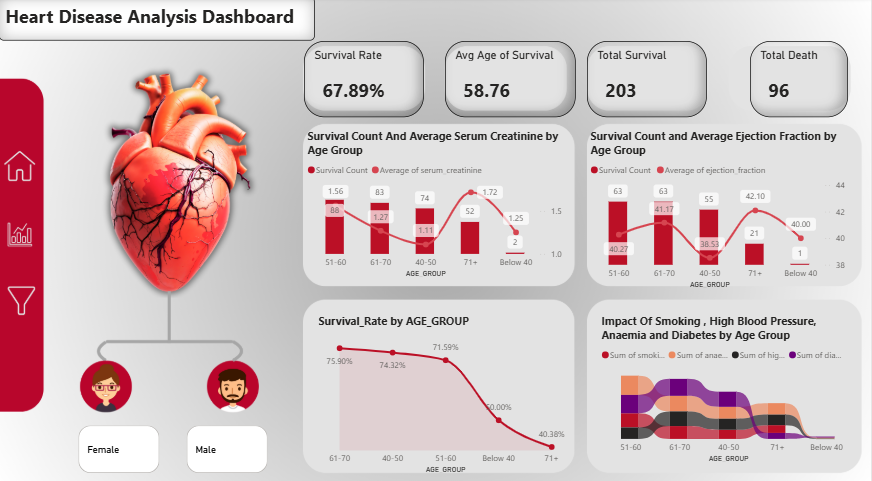

What the dashboard file says about the page in this screenshot:
{"tool":"powerbi","page":{"name":"Page 1","canvas":[1280,720],"ordinal":0},"visuals":[{"type":"textbox","box":[0,0,464,64],"z":0},{"type":"cardVisual","title":"Survival Rate","fields":{"Data":["heart_Disease_clinical_records_.Survival_Rate"]},"box":[448,64,176,112],"z":1000},{"type":"cardVisual","title":"Avg Age of Survival","fields":{"Data":["heart_Disease_clinical_records_.Average_Age_of_Survival"]},"box":[656,64,176,112],"z":2000},{"type":"cardVisual","title":"Total Survival","fields":{"Data":["heart_Disease_clinical_records_.Total_Survival"]},"box":[864,64,176,112],"z":3000},{"type":"cardVisual","title":"Total Death","fields":{"Data":["heart_Disease_clinical_records_.Total_Death"]},"box":[1104,64,144,112],"z":4000},{"type":"lineClusteredColumnComboChart","title":"Survival Count And  Average Serum Creatinine by Age Group ","fields":{"Category":["heart_Disease_clinical_records_.AGE_GROUP"],"Y":["CountNonNull(heart_Disease_clinical_records_.DEATH_EVENT)"],"Y2":["Avg(heart_Disease_clinical_records_.serum_creatinine)"]},"box":[448,192,384,224],"z":5000},{"type":"lineClusteredColumnComboChart","title":"Survival Count and Average Ejection Fraction by Age Group","fields":{"Category":["heart_Disease_clinical_records_.AGE_GROUP"],"Y":["CountNonNull(heart_Disease_clinical_records_.DEATH_EVENT)"],"Y2":["Avg(heart_Disease_clinical_records_.ejection_fraction)"]},"box":[864,192,384,240],"z":6000},{"type":"lineChart","fields":{"Category":["heart_Disease_clinical_records_.AGE_GROUP"],"Y":["heart_Disease_clinical_records_.Survival_Rate"]},"box":[464,464,384,240],"z":7000},{"type":"ribbonChart","title":"Impact Of Smoking , High Blood Pressure, Anaemia and Diabetes by Age Group","fields":{"Category":["heart_Disease_clinical_records_.AGE_GROUP"],"Y":["Sum(heart_Disease_clinical_records_.smoking)","Sum(heart_Disease_clinical_records_.anaemia)","Sum(heart_Disease_clinical_records_.high_blood_pressure)","Sum(heart_Disease_clinical_records_.diabetes)"]},"box":[880,464,384,224],"z":8000},{"type":"advancedSlicerVisual","fields":{"Values":["heart_Disease_clinical_records_.Gender"]},"box":[112,624,288,80],"z":9000}]}

Visuals, with their boxes in screenshot pixels (x1, y1, x2, y2), scaled from the page's 1280x720 canvas onto the 872x481 screenshot:
textbox: (0, 0, 316, 43)
"Survival Rate" cardVisual: (305, 43, 425, 118)
"Avg Age of Survival" cardVisual: (447, 43, 567, 118)
"Total Survival" cardVisual: (589, 43, 708, 118)
"Total Death" cardVisual: (752, 43, 850, 118)
"Survival Count And  Average Serum Creatinine by Age Group " lineClusteredColumnComboChart: (305, 128, 567, 278)
"Survival Count and Average Ejection Fraction by Age Group" lineClusteredColumnComboChart: (589, 128, 850, 289)
lineChart - heart_Disease_clinical_records_.AGE_GROUP x heart_Disease_clinical_records_.Survival_Rate: (316, 310, 578, 470)
"Impact Of Smoking , High Blood Pressure, Anaemia and Diabetes by Age Group" ribbonChart: (600, 310, 861, 460)
advancedSlicerVisual - heart_Disease_clinical_records_.Gender: (76, 417, 272, 470)
